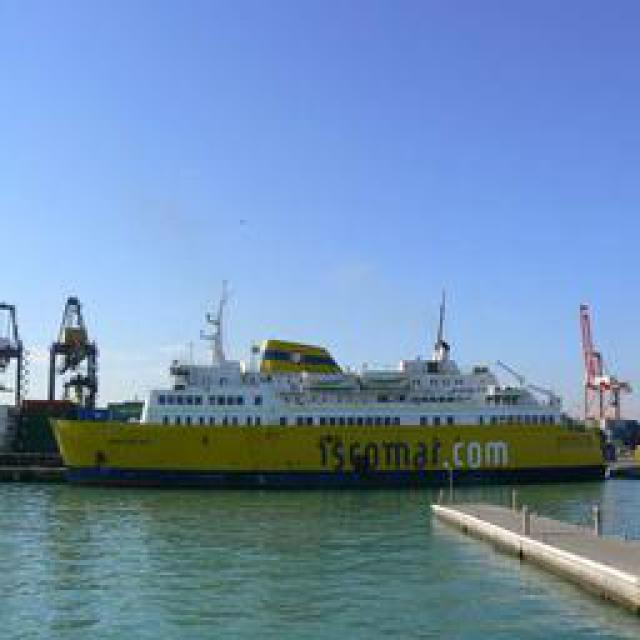Ship: (47, 283, 627, 488)
